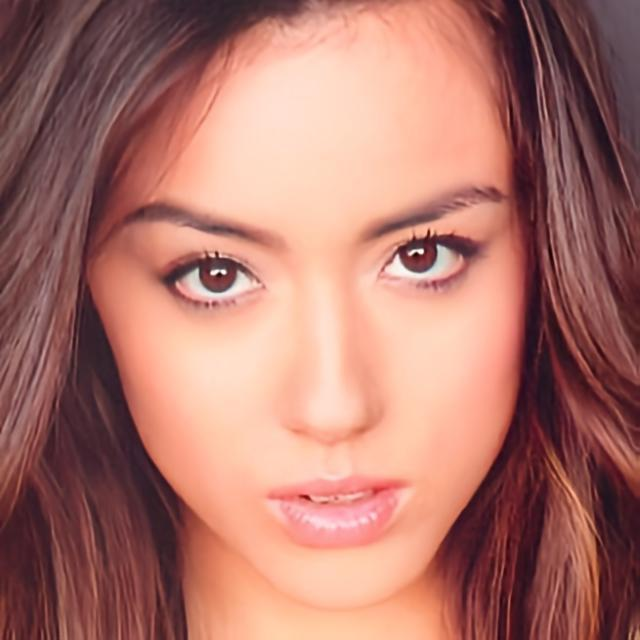neutral: (79, 0, 537, 610)
